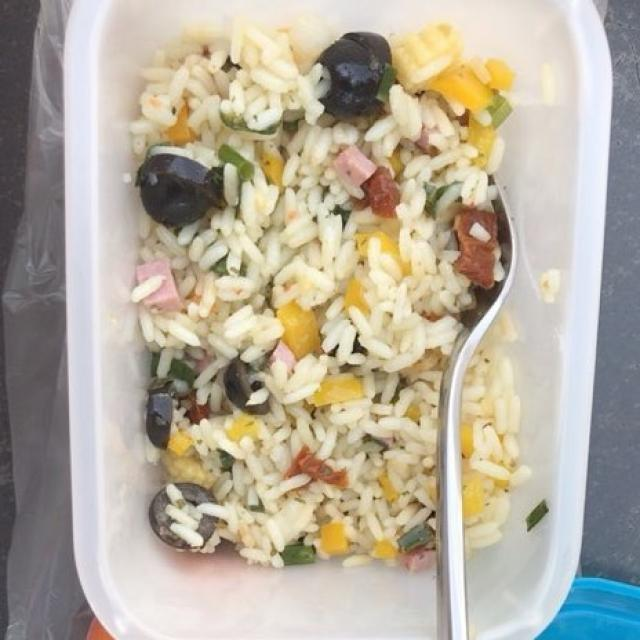black-olives: (137, 31, 401, 554)
ham: (128, 139, 368, 317)
rice: (137, 39, 534, 584)
tomato: (357, 163, 502, 287)
